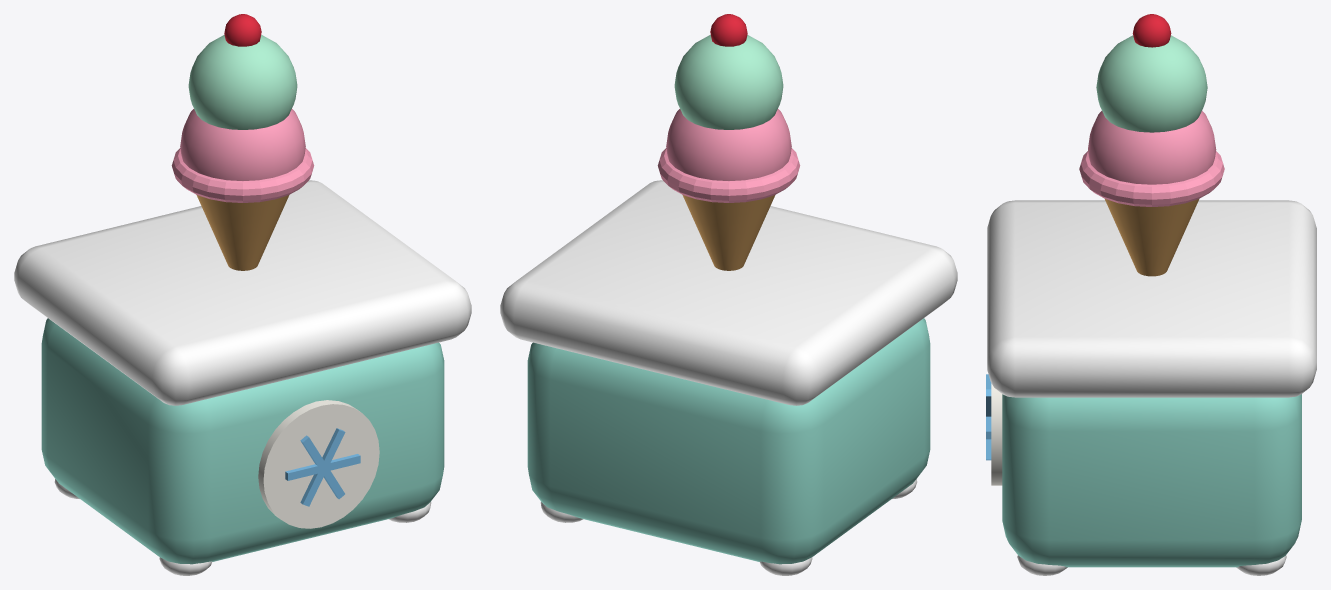
The model's file is Gen_IceCream.fbx.
3 views of the same model, side by side, from view 1: azimuth 30°, elevation 25°; view 2: azimuth 150°, elevation 25°; view 3: azimuth 270°, elevation 25° (orthographic). The views are drawn at different scales.
Parts seen in each view (by area): view 1: Gen_IceCream_Lid, Gen_IceCream_Body, Gen_IceCream_Emblem, Gen_IceCream_Scoop2, Gen_IceCream_Scoop, Gen_IceCream_Cone, Gen_IceCream_Drip, Gen_IceCream_Flake (×3), Gen_IceCream_Cherry; view 2: Gen_IceCream_Body, Gen_IceCream_Lid, Gen_IceCream_Scoop2, Gen_IceCream_Scoop, Gen_IceCream_Cone, Gen_IceCream_Drip, Gen_IceCream_Cherry; view 3: Gen_IceCream_Lid, Gen_IceCream_Body, Gen_IceCream_Scoop2, Gen_IceCream_Scoop, Gen_IceCream_Cone, Gen_IceCream_Drip, Gen_IceCream_Emblem, Gen_IceCream_Cherry, Gen_IceCream_Foot (×2).
Boxes of the visible parts, x1,y1,x2,y2 form: Gen_IceCream_Lid: (14, 180, 471, 405); Gen_IceCream_Body: (41, 318, 444, 564); Gen_IceCream_Emblem: (258, 400, 379, 528); Gen_IceCream_Scoop2: (188, 35, 297, 129); Gen_IceCream_Scoop: (180, 109, 305, 180); Gen_IceCream_Cone: (196, 195, 289, 270); Gen_IceCream_Drip: (171, 148, 314, 202); Gen_IceCream_Flake (×3): (285, 428, 360, 506); Gen_IceCream_Cherry: (224, 14, 261, 46); Gen_IceCream_Body: (527, 318, 930, 564); Gen_IceCream_Lid: (500, 180, 957, 405); Gen_IceCream_Scoop2: (674, 35, 783, 129); Gen_IceCream_Scoop: (666, 109, 791, 180); Gen_IceCream_Cone: (682, 195, 775, 270); Gen_IceCream_Drip: (657, 148, 800, 202); Gen_IceCream_Cherry: (710, 14, 747, 46); Gen_IceCream_Lid: (987, 200, 1316, 397); Gen_IceCream_Body: (1002, 394, 1301, 567); Gen_IceCream_Scoop2: (1096, 35, 1207, 132); Gen_IceCream_Scoop: (1088, 110, 1216, 184); Gen_IceCream_Cone: (1105, 199, 1199, 276); Gen_IceCream_Drip: (1079, 151, 1224, 206); Gen_IceCream_Emblem: (991, 383, 1002, 485); Gen_IceCream_Cherry: (1132, 14, 1171, 47); Gen_IceCream_Foot (×2): (1017, 555, 1286, 575).
Bounding box in the file's own units: 17.4 × 25.88 × 15.45.
